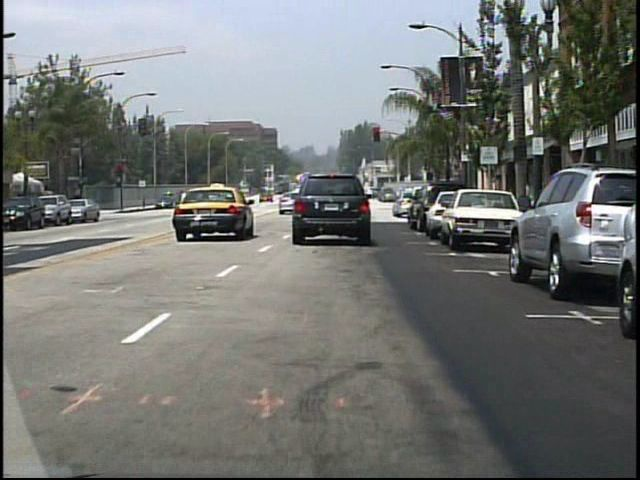person: (349, 186, 366, 218), (184, 188, 199, 213)
